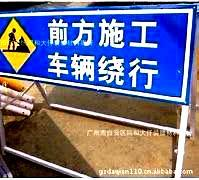sign: (1, 12, 193, 99)
